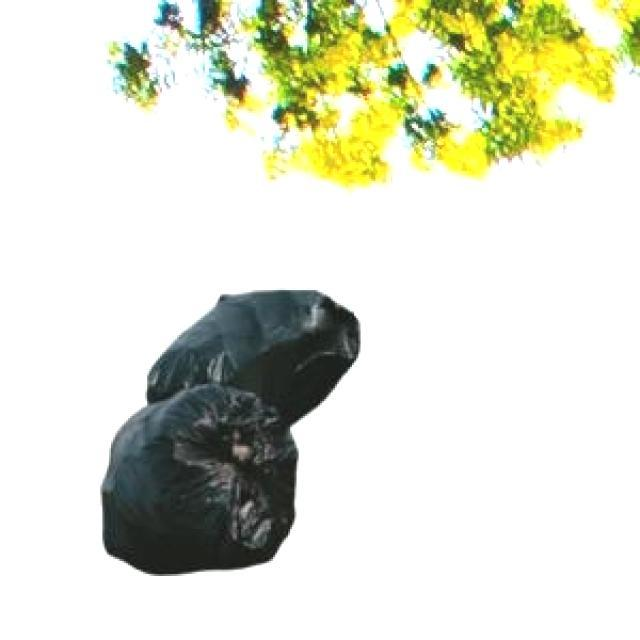Trashbag: (97, 378, 303, 579), (141, 280, 367, 430)
